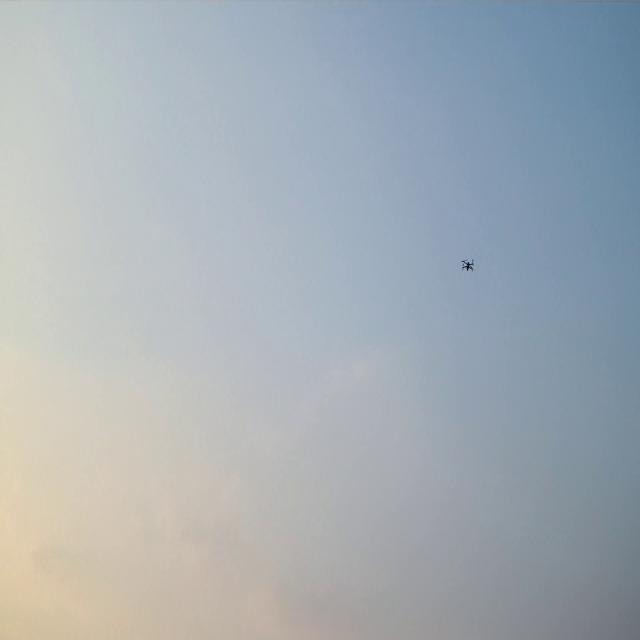UAV: (460, 258, 474, 272)
